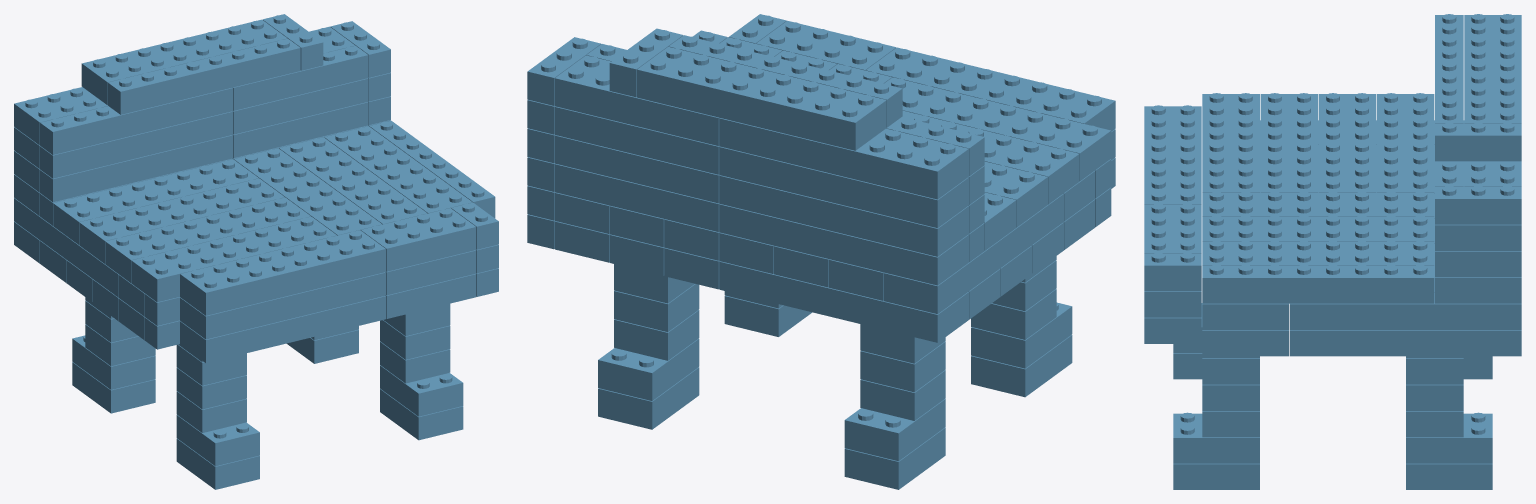
The model's file is 021_bed_L1.glb.
3 views of the same model, side by side, from view 1: azimuth 30°, elevation 25°; view 2: azimuth 150°, elevation 25°; view 3: azimuth 270°, elevation 25° (orthographic). The views are drawn at different scales.
Size of the model in its own units: 14.98 by 13.13 by 12.98.
